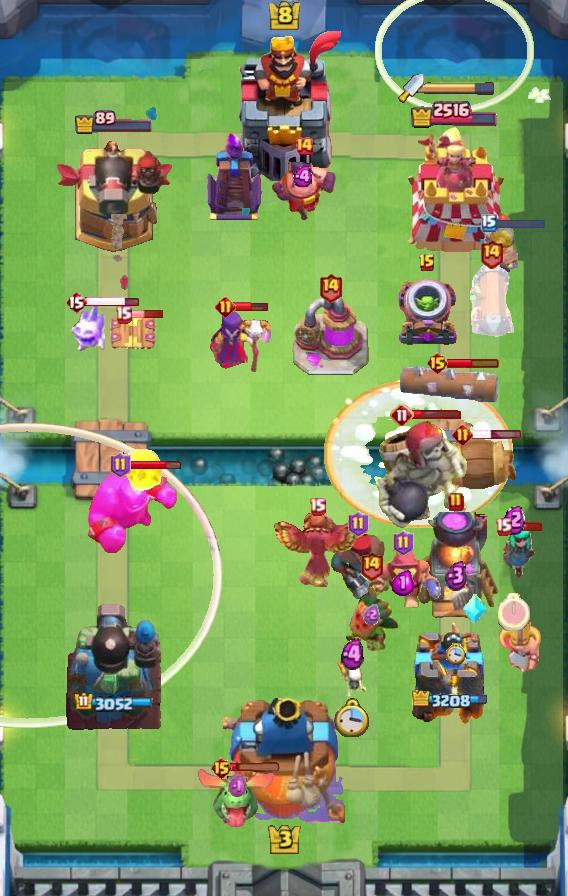axe: (207, 308, 271, 378)
bar: (394, 126, 512, 256)
battle-healer: (466, 261, 516, 349)
clone: (87, 466, 179, 556)
electro-giant: (371, 418, 471, 530)
electro-spirit: (340, 638, 363, 671), (445, 560, 468, 591), (503, 504, 525, 535), (392, 570, 414, 596), (227, 773, 248, 799), (293, 166, 315, 187), (364, 603, 381, 625)
electro-wizard: (197, 767, 279, 829)
elixir: (334, 698, 370, 737), (498, 593, 530, 631), (446, 643, 466, 666)
emote: (494, 217, 546, 231), (84, 296, 139, 309), (447, 357, 501, 369), (470, 428, 522, 440), (130, 460, 183, 471), (230, 763, 282, 774), (412, 409, 462, 420), (233, 301, 269, 312), (509, 521, 543, 532), (128, 309, 163, 319)
fireball: (363, 549, 443, 623)
fisherman: (106, 214, 129, 264)
goblin-barrel: (342, 584, 400, 654)
goblin-brawler: (107, 312, 157, 352)
goblin-cage: (395, 278, 459, 348)
goblin-giant: (498, 615, 544, 675), (482, 227, 518, 273)
golden-knight: (269, 511, 365, 589)
heal-spirit: (334, 659, 370, 697)
hunter: (412, 512, 500, 622)
ice-spirit-evolution-symbol: (204, 130, 264, 222)
king-tower: (223, 31, 345, 181), (223, 698, 345, 826)
king-tower-bar: (424, 81, 496, 95)
minion: (399, 366, 501, 402)
mirror: (68, 302, 108, 354)
monk: (271, 145, 337, 223)
pad_2: (462, 593, 488, 625)
pekka: (291, 295, 369, 377)
phoenix-big: (323, 379, 512, 528)
phoenix-small: (328, 531, 388, 603)
queen-tower: (411, 619, 495, 731)
selected: (410, 99, 499, 129), (74, 110, 154, 135), (412, 690, 494, 712), (75, 692, 153, 712)
text: (479, 238, 504, 269), (318, 273, 343, 304), (360, 550, 385, 581), (390, 403, 414, 427), (427, 351, 450, 375), (210, 756, 233, 780), (110, 452, 131, 478), (348, 511, 369, 537), (394, 530, 415, 556), (65, 290, 87, 314), (215, 295, 236, 317), (451, 423, 472, 445), (294, 136, 314, 156), (418, 253, 436, 273), (115, 304, 133, 323), (495, 517, 513, 536), (309, 497, 327, 515), (448, 492, 464, 512), (481, 214, 497, 232)
the-log: (439, 436, 519, 496)
tower-bar: (53, 138, 175, 256), (64, 601, 164, 731)
valkyrie: (120, 444, 166, 500)
witch: (490, 524, 538, 582)
